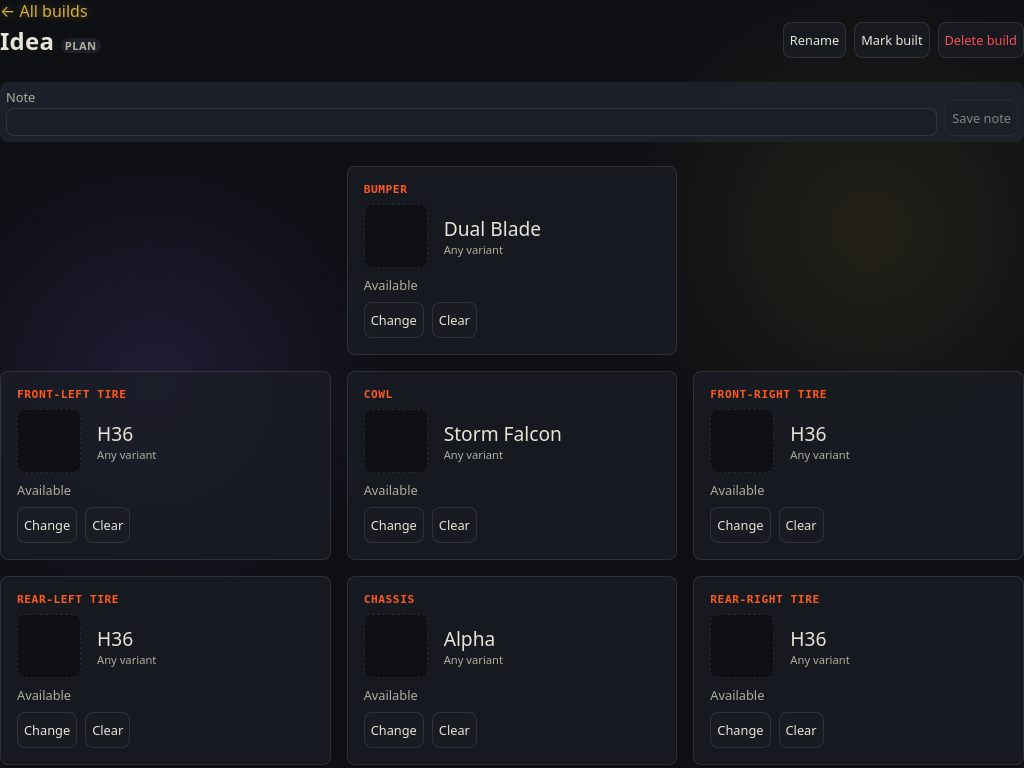
Test: BuildView for a plan › leaves the plan shown with the error when marking built fails
The image size is (1024, 768).
Click the button "Mark built" at (892, 40), box [854,22,930,58]
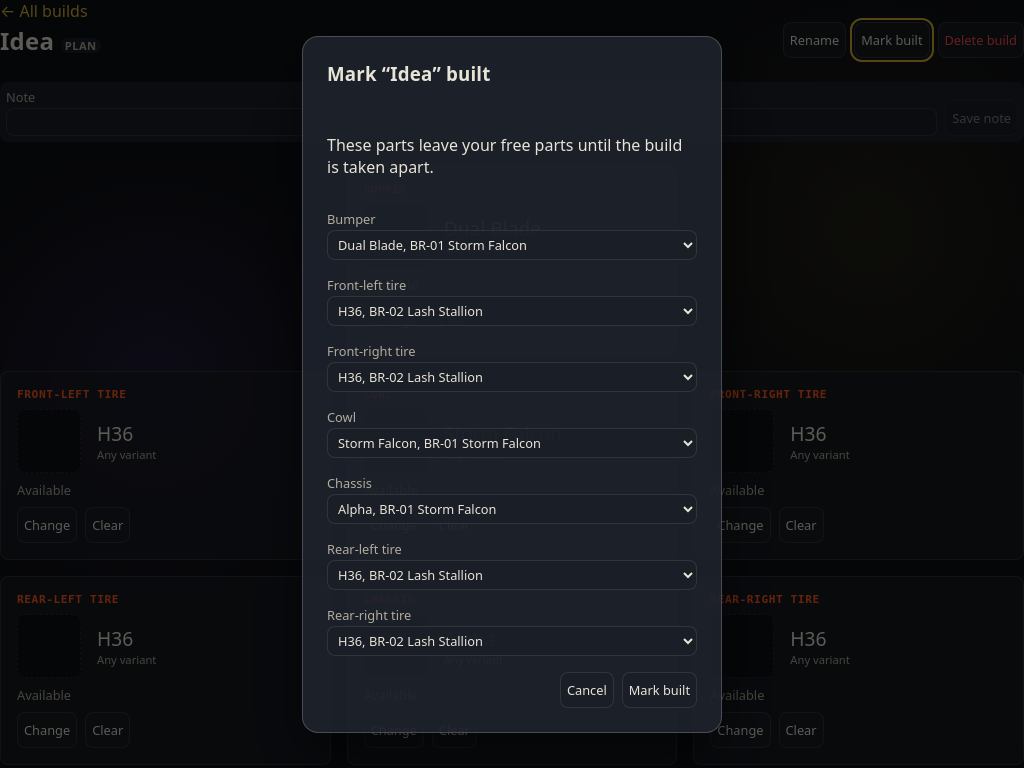
Click the button "Mark built" at (659, 690), box [622,672,697,708]
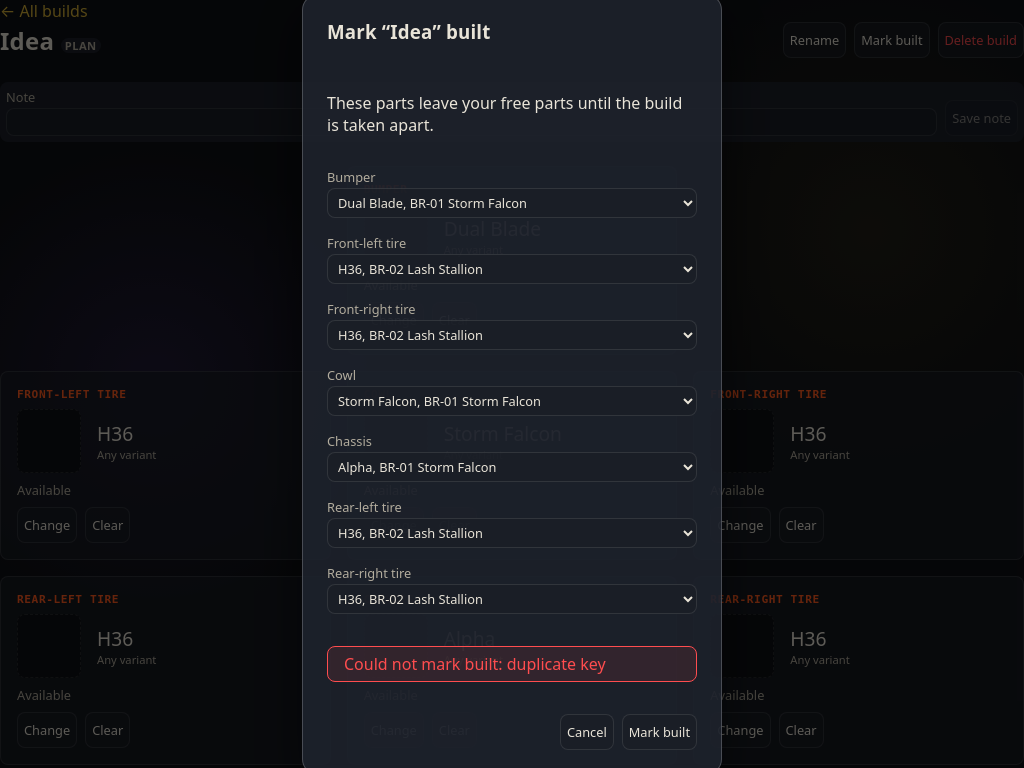
expect the heading "Idea Plan" is shown: met, box [0,24,101,56]
expect the message reads "Could not mark built: duplicate key": met, box [344,652,606,674]
